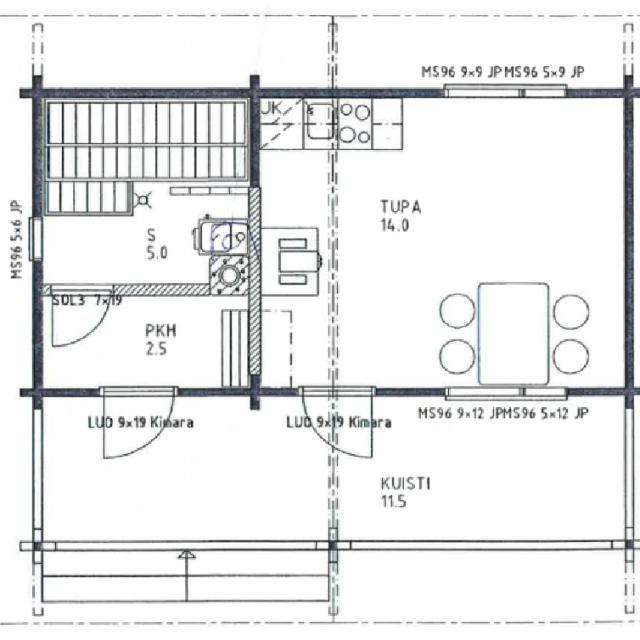door: (302, 388, 372, 464), (104, 388, 172, 463), (52, 284, 110, 353)
